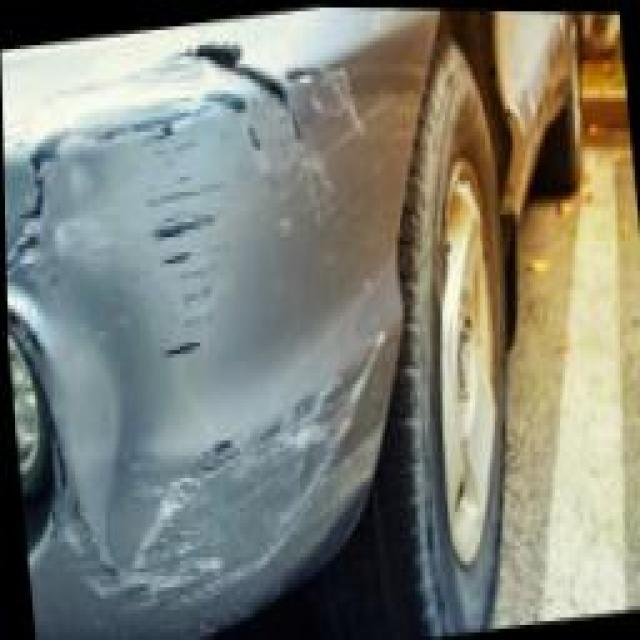Bumper: (0, 0, 415, 640)
